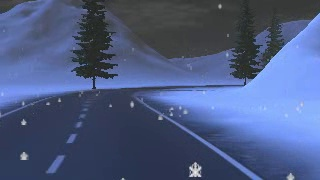Lane: (0, 84, 257, 178)
